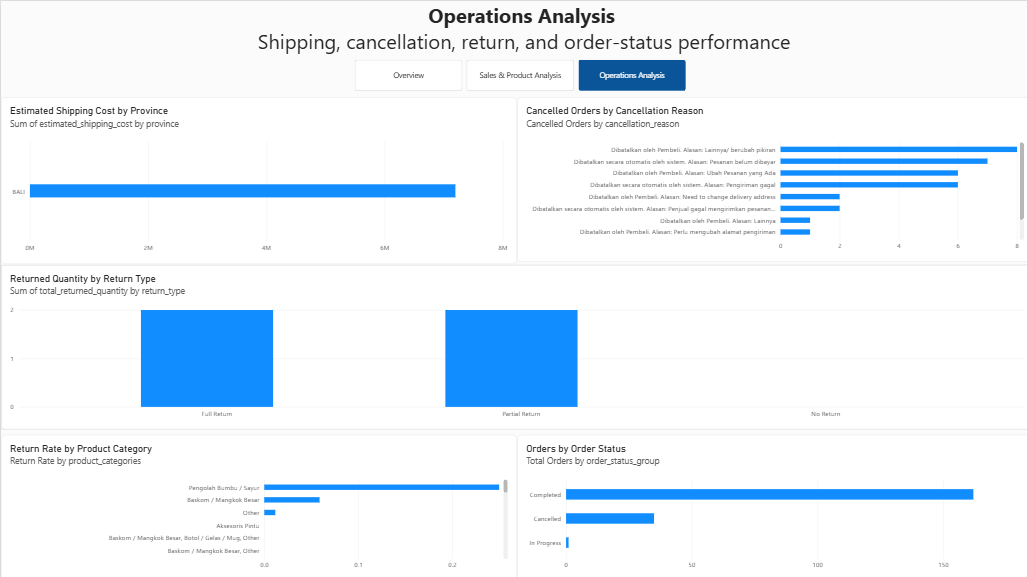

The page's visual inventory and layout, read from the dashboard file:
{"tool":"powerbi","page":{"name":"Operations Analysis","canvas":[1920,1080],"ordinal":2},"visuals":[{"type":"clusteredBarChart","title":"Estimated Shipping Cost by Province","fields":{"Category":["cleaned_ecommerce_data.province"],"Y":["Sum(cleaned_ecommerce_data.estimated_shipping_cost)"]},"box":[0,180,960,310],"z":0},{"type":"clusteredBarChart","title":"Cancelled Orders by Cancellation Reason","fields":{"Category":["cleaned_ecommerce_data.cancellation_reason"],"Y":["cleaned_ecommerce_data.Cancelled Orders"]},"box":[960,180,960,306.7],"z":1000},{"type":"clusteredColumnChart","title":"Returned Quantity by Return Type","fields":{"Category":["cleaned_ecommerce_data.return_type"],"Y":["Sum(cleaned_ecommerce_data.total_returned_quantity)"]},"box":[0,490,1920,306.7],"z":2000},{"type":"clusteredBarChart","title":"Return Rate by Product Category","fields":{"Category":["cleaned_ecommerce_data.product_categories"],"Y":["cleaned_ecommerce_data.Return Rate"]},"box":[0,807.5,960,272.5],"z":3000},{"type":"clusteredBarChart","title":"Orders by Order Status","fields":{"Category":["cleaned_ecommerce_data.order_status_group"],"Y":["cleaned_ecommerce_data.Total Orders"]},"box":[960,807.5,960,272.5],"z":4000},{"type":"textbox","box":[100,0,1736.7,400],"z":5000},{"type":"pageNavigator","box":[658.3,108.3,618.6,58.6],"z":7001}]}

Visuals, with their boxes in screenshot pixels (x1, y1, x2, y2), scaled from the page's 1920x1080 canvas onto the 1027x577 screenshot:
"Estimated Shipping Cost by Province" clusteredBarChart: crop(0, 96, 514, 262)
"Cancelled Orders by Cancellation Reason" clusteredBarChart: crop(514, 96, 1026, 260)
"Returned Quantity by Return Type" clusteredColumnChart: crop(0, 262, 1026, 426)
"Return Rate by Product Category" clusteredBarChart: crop(0, 431, 514, 576)
"Orders by Order Status" clusteredBarChart: crop(514, 431, 1026, 576)
textbox: crop(53, 0, 982, 214)
pageNavigator: crop(352, 58, 683, 89)
